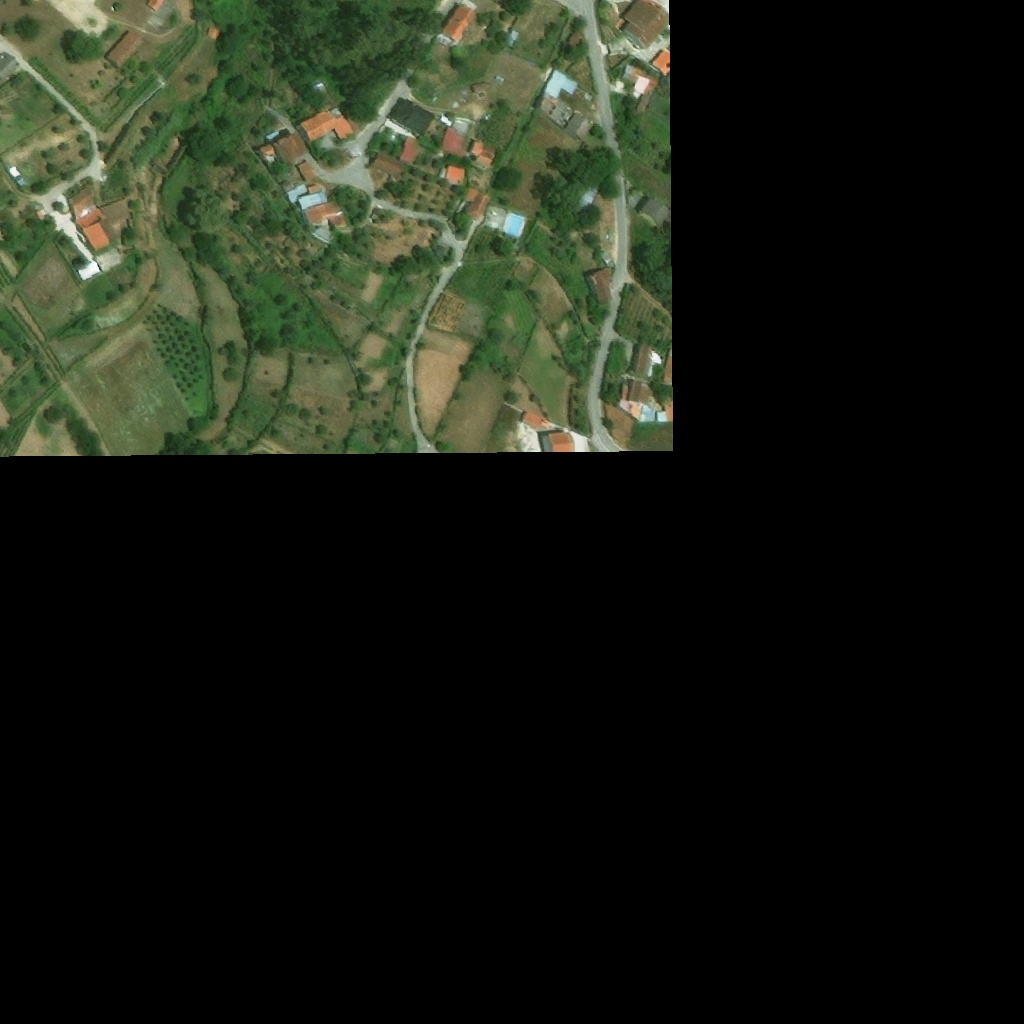0 no-damage: (393, 98, 476, 159), (536, 66, 594, 143), (75, 197, 132, 251), (619, 0, 673, 47), (619, 64, 662, 115), (299, 105, 356, 142), (569, 165, 607, 218), (259, 129, 310, 167), (618, 379, 659, 421), (437, 3, 479, 41), (304, 198, 349, 231), (285, 182, 330, 213), (107, 29, 142, 63), (459, 186, 491, 221), (370, 150, 407, 178), (641, 194, 670, 228), (589, 267, 612, 309), (66, 185, 94, 216), (117, 36, 143, 68), (648, 49, 674, 76), (469, 138, 498, 162), (584, 275, 602, 311), (635, 340, 653, 376), (398, 135, 420, 164), (76, 259, 102, 283), (385, 96, 407, 121), (0, 51, 16, 80), (568, 30, 589, 51), (297, 160, 317, 181), (663, 350, 677, 380), (521, 410, 543, 429), (445, 164, 466, 182), (663, 399, 678, 423), (548, 431, 575, 443), (437, 33, 455, 48), (504, 28, 518, 46), (476, 154, 493, 165), (105, 55, 118, 68), (8, 165, 21, 178), (471, 82, 485, 93), (207, 27, 218, 39), (16, 176, 27, 188), (657, 411, 668, 422)
4 un-classified: (146, 0, 165, 11)
